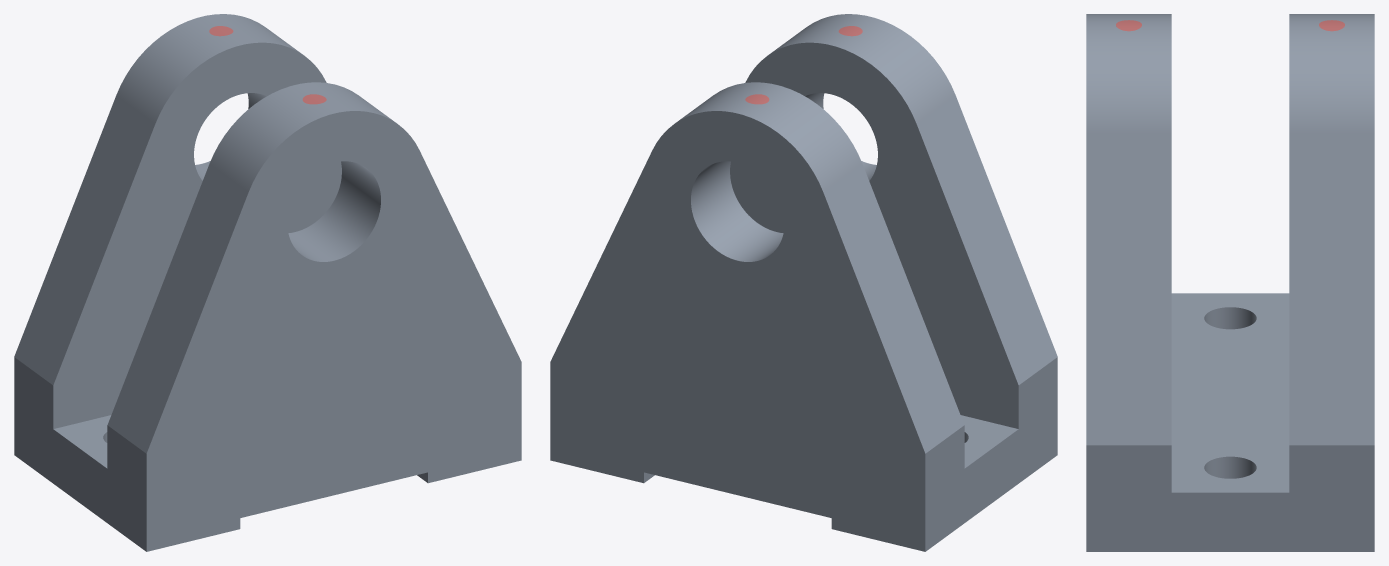
File: step_09.glb
The picture shows the model from 3 angles, left to right: view 1: azimuth 30°, elevation 25°; view 2: azimuth 150°, elevation 25°; view 3: azimuth 270°, elevation 25°; orthographic projection. The views are drawn at different scales.
Parts seen in each view (by area): view 1: part__fork bracket; view 2: part__fork bracket; view 3: part__fork bracket, removed__fork bracket.
Boxes of the visible parts, <box> form: part__fork bracket: <box>14,14,521,551</box>; part__fork bracket: <box>550,14,1057,551</box>; part__fork bracket: <box>1086,14,1374,551</box>; removed__fork bracket: <box>1116,20,1344,31</box>.
Size of the model in its own units: 72 by 72 by 44.
